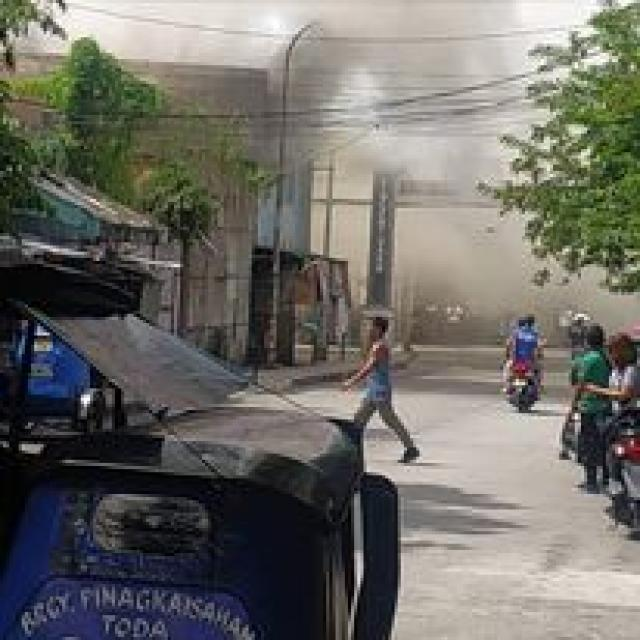Smoke: (319, 166, 482, 300), (270, 31, 374, 131)
